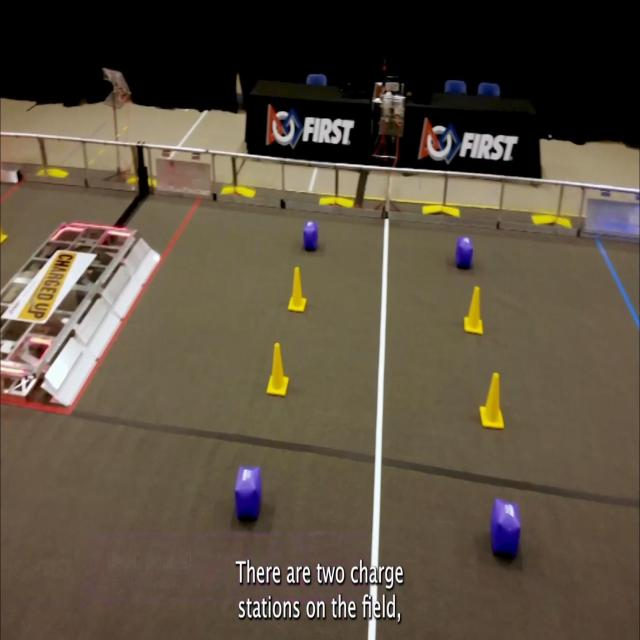frc_cone: (480, 372, 504, 429), (267, 340, 289, 396), (464, 286, 484, 336), (287, 266, 307, 312)
frc_cube: (490, 499, 521, 560), (234, 466, 262, 521), (302, 219, 319, 252), (456, 237, 472, 269)
